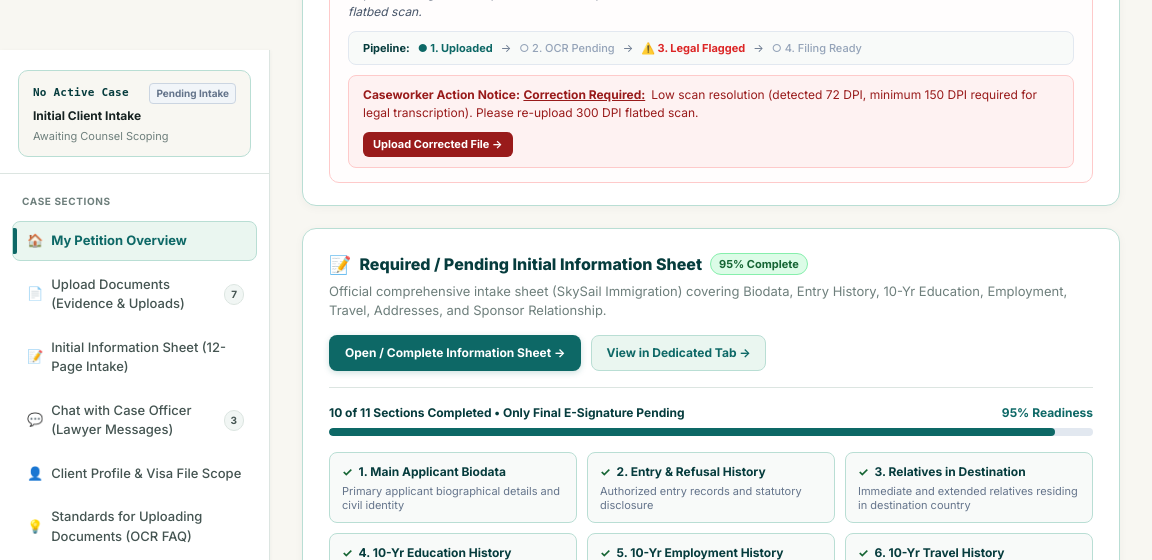
Test case: Retained Client Dashboard — Streamlined Overview, Scope, Intake & OCR FAQ › 3. Overview Panel — Required / Pending Initial Information Sheet › opens the Initial Information Sheet modal when clicking the action button
(page scrolled)
Click the button "Open / Complete Information Sheet →".
click(455, 353)  # box [329,335,581,371]
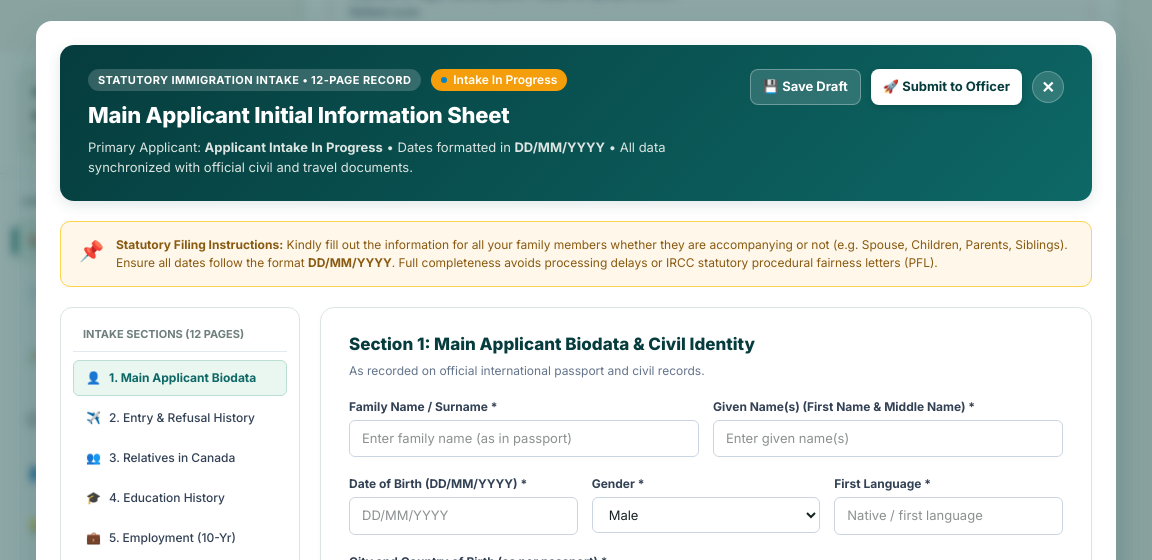
Result: the heading "Main Applicant Initial Information Sheet" is shown at [88,102,510,128]
Result: the text "Applicant Intake In Progress" is shown at [205,139,383,155]
